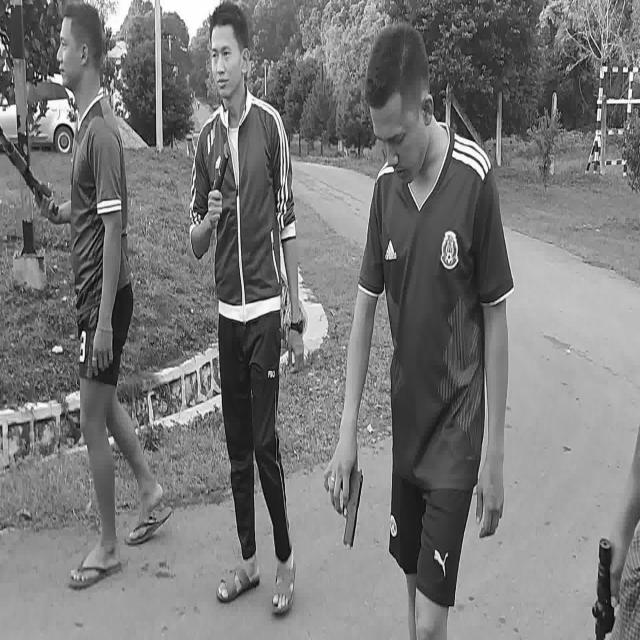gun: (1, 131, 61, 214), (340, 470, 363, 546)
